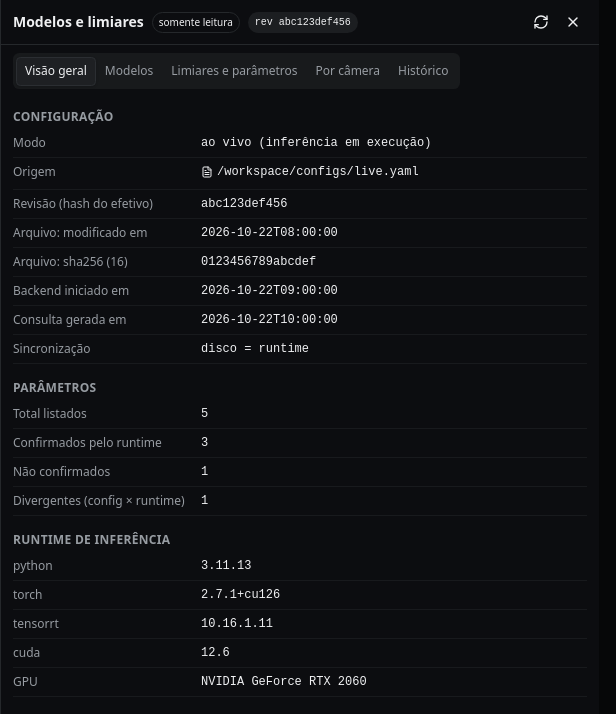
Scenario: ProcessingPanel (somente leitura) › histórico: informa que não há suporte no backend
This screenshot has width=616, height=714.
What coordinates should you click on to do the following:
click the tab "Histórico"
I would click on:
 (423, 71)
Its box is [389,56,458,86].
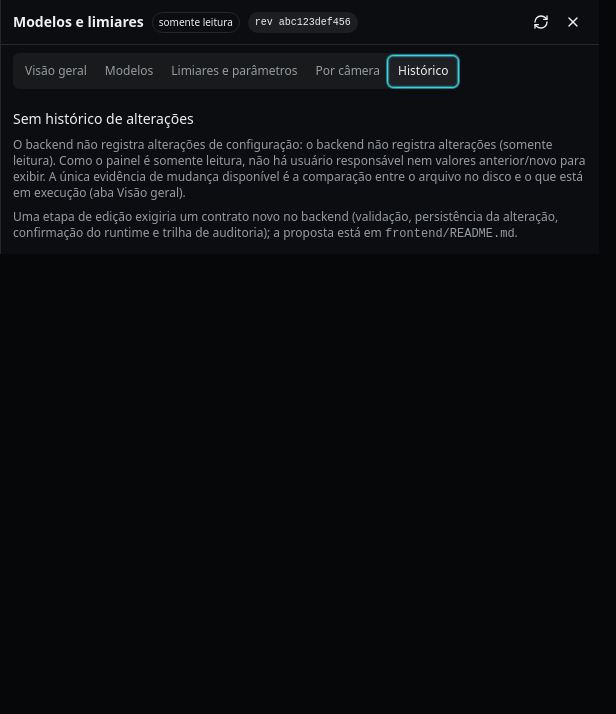
Check: the element with test id "tab-history" shows "Sem histórico de alterações", box [13,109,194,128]
